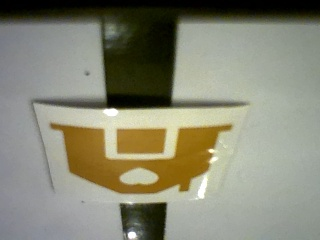Rescue_Station: (51, 122, 233, 195)
